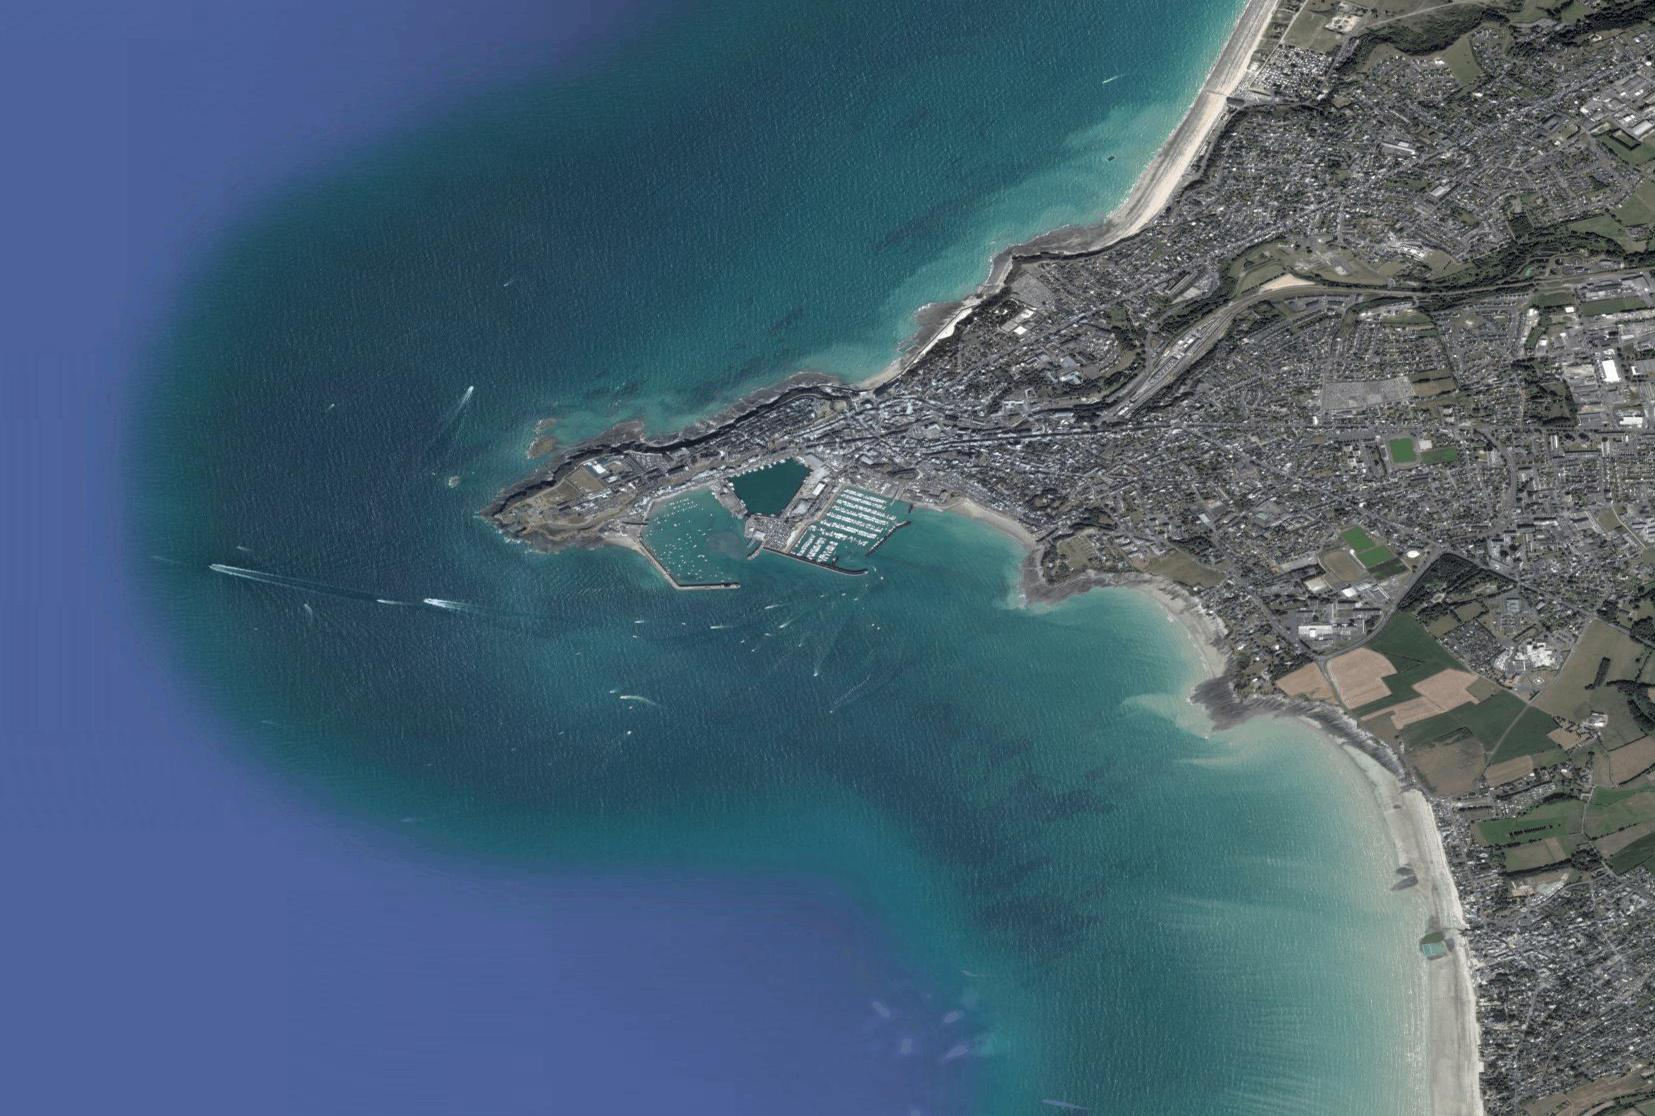harbor: (615, 463, 915, 617)
train_station: (1146, 311, 1219, 384)
